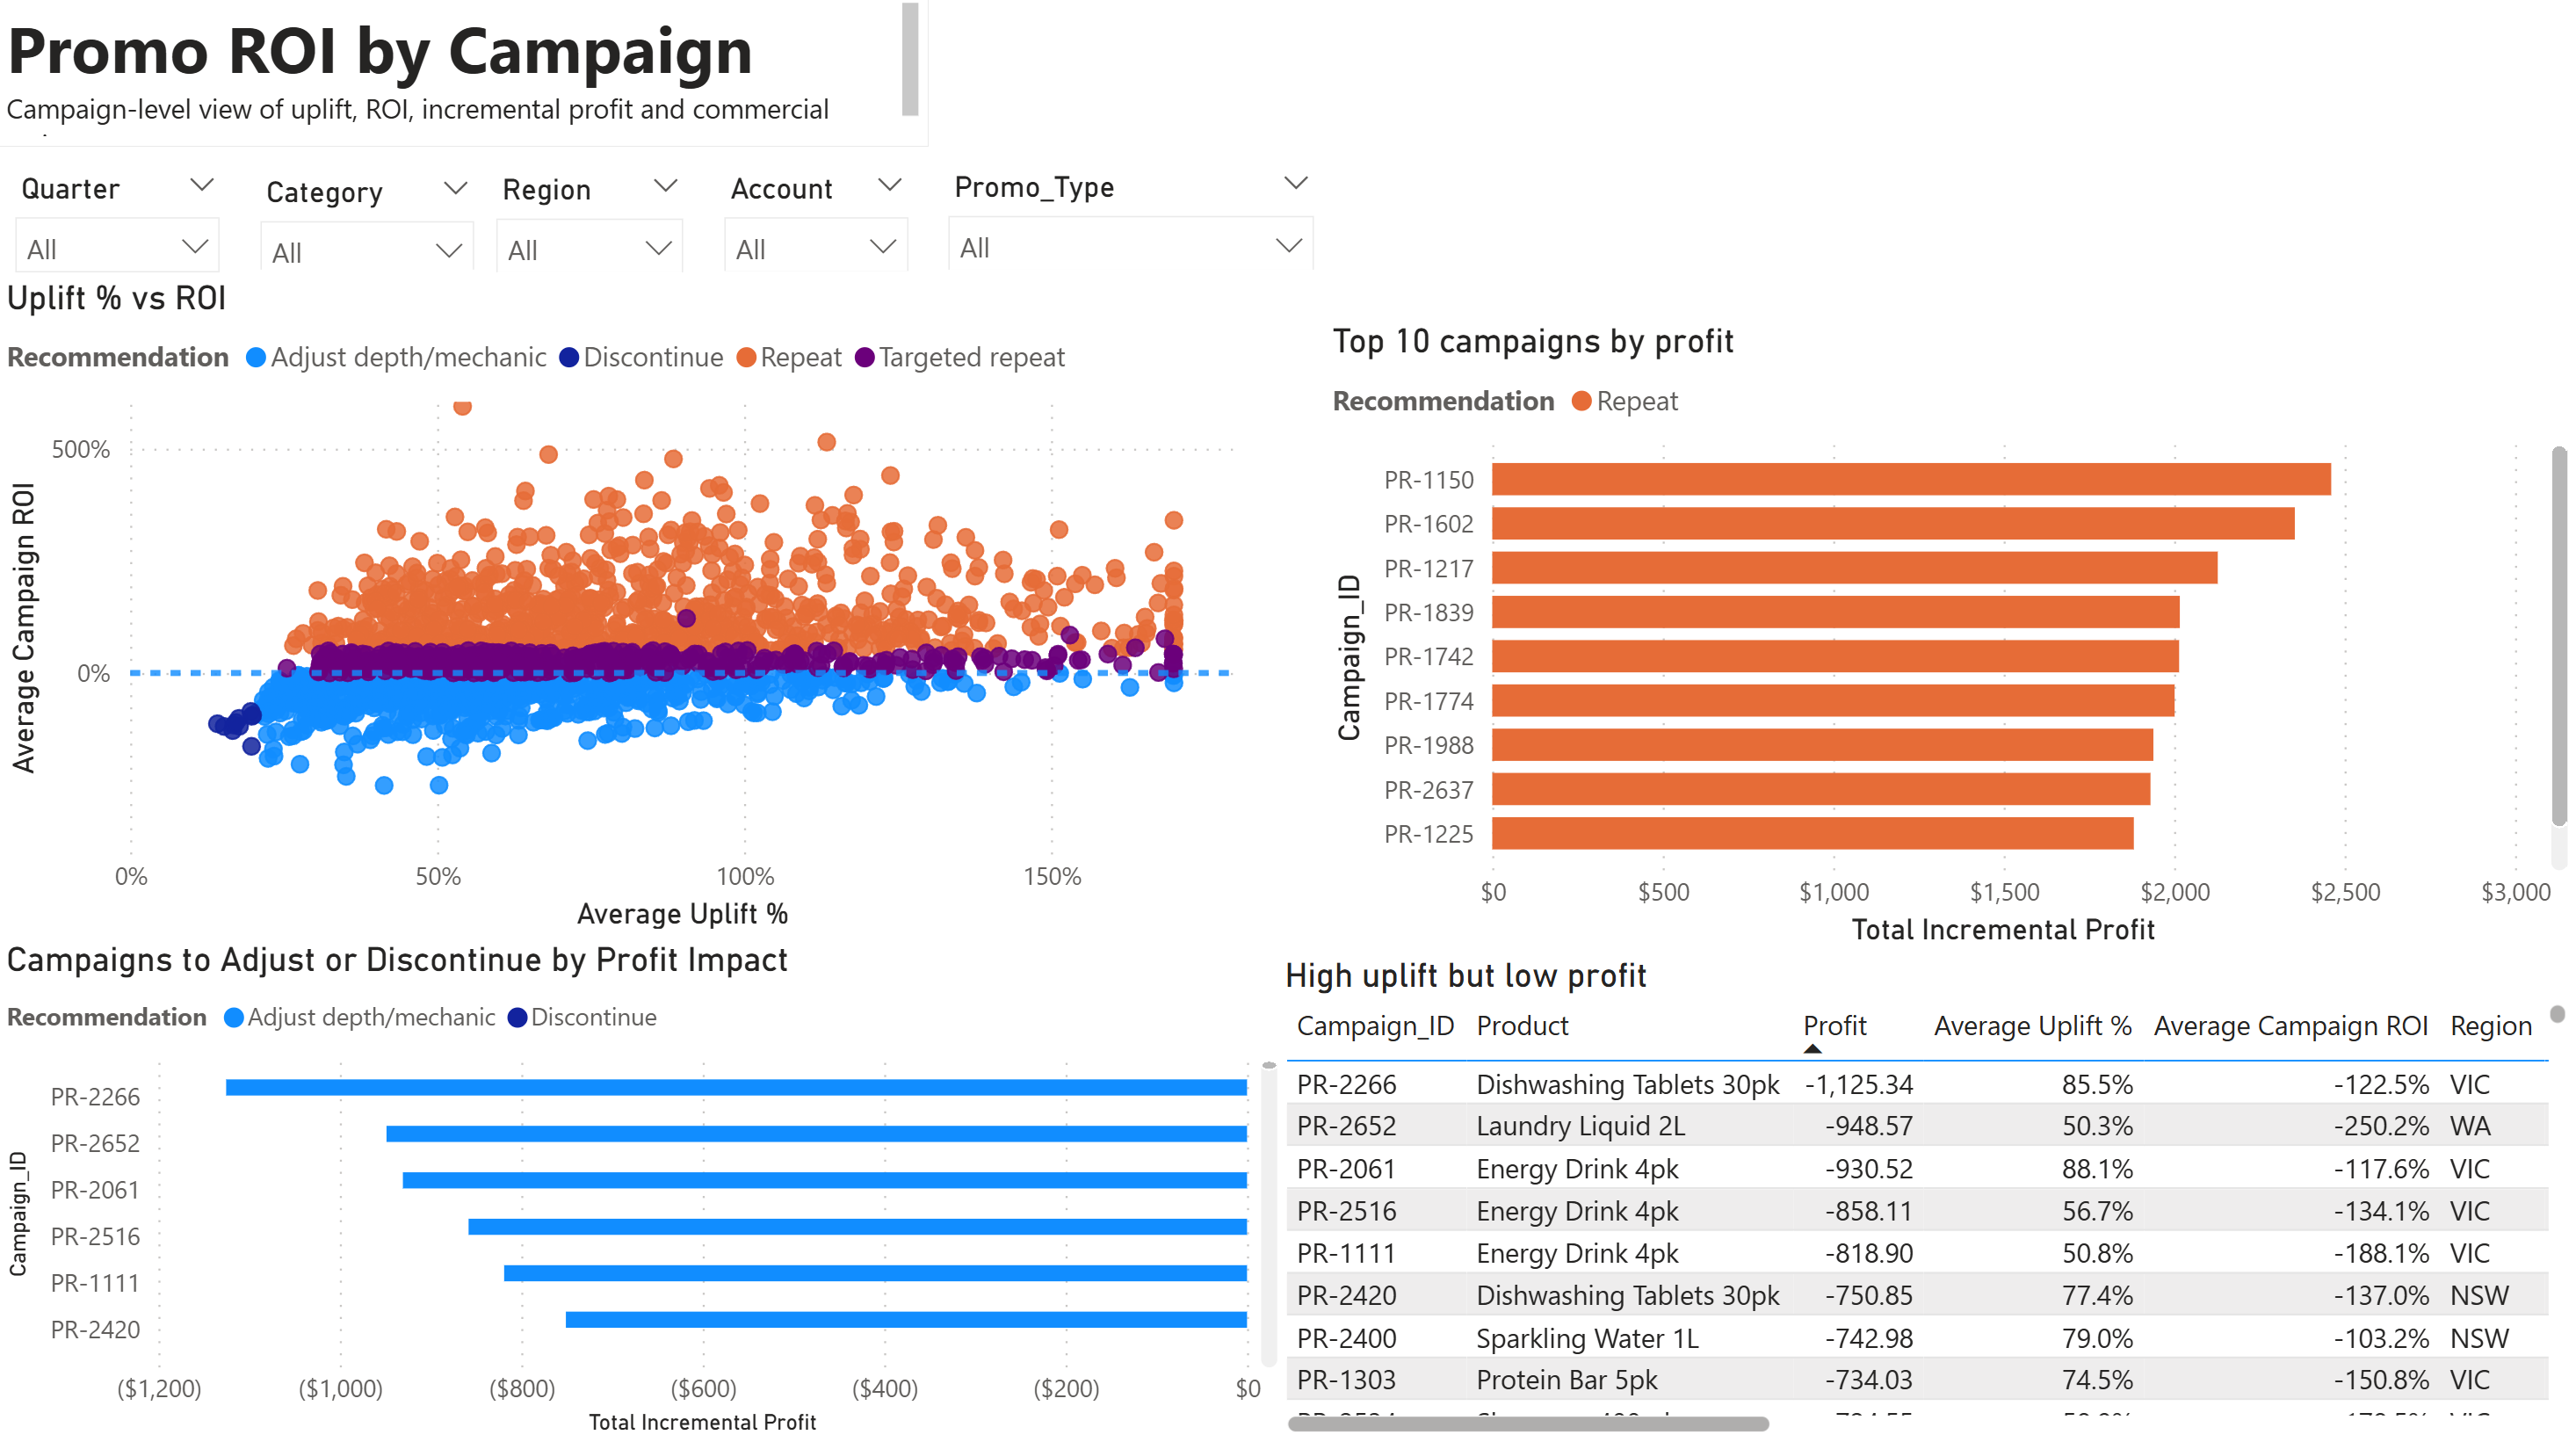

The page's visual inventory and layout, read from the dashboard file:
{"tool":"powerbi","page":{"name":"Promo ROI by Campaign","canvas":[1280,720],"ordinal":1},"visuals":[{"type":"textbox","box":[0,0,462.2,76.5],"z":0},{"type":"slicer","fields":{"Values":["PromoData.Quarter"]},"box":[-0.9,83.5,121.5,57.7],"z":1000},{"type":"slicer","fields":{"Values":["PromoData.Category"]},"box":[120.6,86,125.8,52.2],"z":2000},{"type":"slicer","fields":{"Values":["PromoData.Region"]},"box":[237.9,84.1,112.9,54.6],"z":3000},{"type":"slicer","fields":{"Values":["PromoData.Account"]},"box":[350.8,83.5,111.1,54.6],"z":4000},{"type":"slicer","fields":{"Values":["PromoData.Promo_Type"]},"box":[462.2,83,201.3,54.9],"z":5000},{"type":"scatterChart","title":"Uplift % vs ROI","fields":{"X":["_Measures.Average Uplift %"],"Y":["_Measures.Average Campaign ROI"],"Series":["PromoData.Recommendation"],"Category":["PromoData.Campaign_ID"]},"box":[0,141.2,634.1,328.2],"z":6000},{"type":"tableEx","title":"High uplift but low profit","fields":{"Values":["PromoData.Campaign_ID","PromoData.Product","Sum(PromoData.Incremental_Profit_After_Promo_Cost)","_Measures.Average Uplift %","_Measures.Average Campaign ROI","PromoData.Region","PromoData.Account","PromoData.Promo_Type","Sum(PromoData.Promo_Cost)","PromoData.Category","PromoData.Recommendation","PromoData.Sales_Action"]},"box":[634.1,477.2,645.9,242.5],"z":7000},{"type":"clusteredBarChart","title":"Top 10 campaigns by profit","fields":{"Category":["PromoData.Campaign_ID"],"Y":["_Measures.Total Incremental Profit"],"Series":["PromoData.Recommendation"]},"box":[657.7,162.8,622.3,314.4],"z":8000},{"type":"clusteredBarChart","title":"Campaigns to Adjust or Discontinue by Profit Impact","fields":{"Category":["PromoData.Campaign_ID"],"Series":["PromoData.Recommendation"],"Y":["_Measures.Total Incremental Profit"]},"box":[0,469.4,640,250.4],"z":9000}]}

Visuals, with their boxes in screenshot pixels (x1, y1, x2, y2), scaled from the page's 1280x720 canvas onto the 2576x1442 screenshot:
textbox: 0 0 930 153
slicer - PromoData.Quarter: 0 167 242 283
slicer - PromoData.Category: 242 172 496 277
slicer - PromoData.Region: 479 169 706 278
slicer - PromoData.Account: 706 167 930 277
slicer - PromoData.Promo_Type: 930 166 1335 276
"Uplift % vs ROI" scatterChart: 0 283 1276 940
"High uplift but low profit" tableEx: 1276 956 2575 1441
"Top 10 campaigns by profit" clusteredBarChart: 1324 326 2575 956
"Campaigns to Adjust or Discontinue by Profit Impact" clusteredBarChart: 0 940 1288 1441
